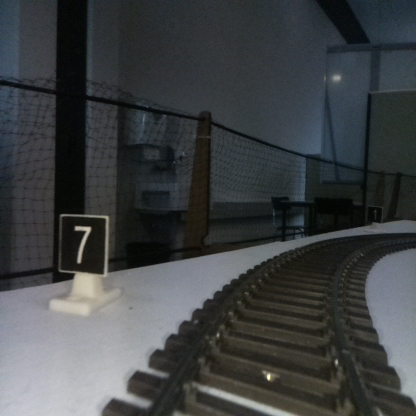black-stop-1: (368, 206, 382, 228)
black-stop-7: (60, 218, 105, 310)
